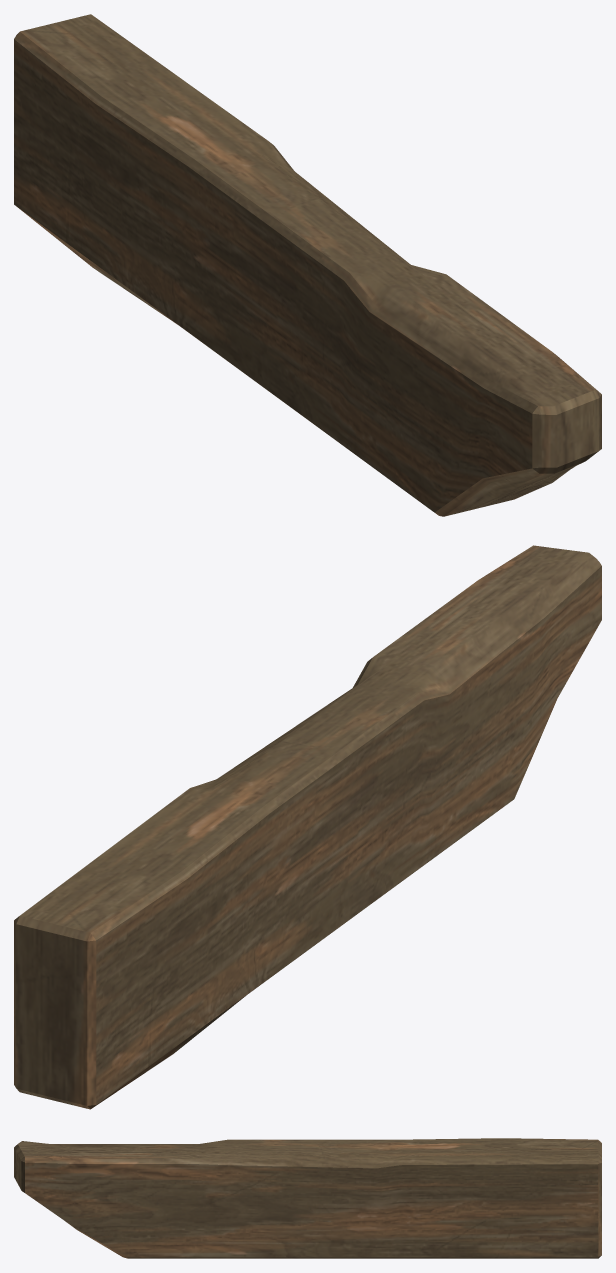
File: SM_roof_top_01.fbx
3 renders of one model, top to bottom at view 1: azimuth 30°, elevation 25°; view 2: azimuth 150°, elevation 25°; view 3: azimuth 270°, elevation 25°, orthographic. The views are drawn at different scales.
Parts seen in each view (by area): view 1: SM_roof_top_01_LOD0; view 2: SM_roof_top_01_LOD0; view 3: SM_roof_top_01_LOD0.
Boxes of the visible parts, x1,y1,x2,y2 form: SM_roof_top_01_LOD0: [14, 14, 601, 516]; SM_roof_top_01_LOD0: [14, 545, 601, 1109]; SM_roof_top_01_LOD0: [14, 1138, 601, 1258].
Size of the model in its own units: 50.28 by 500 by 93.51.
1 material, 1 textured.
